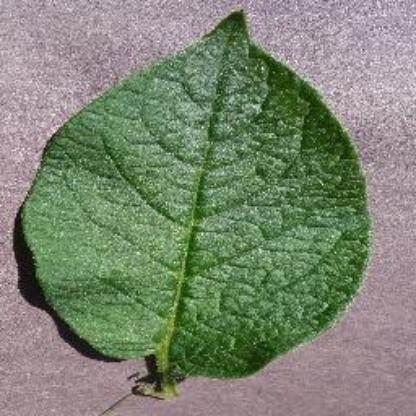Healthy-plant: (15, 9, 407, 381)
